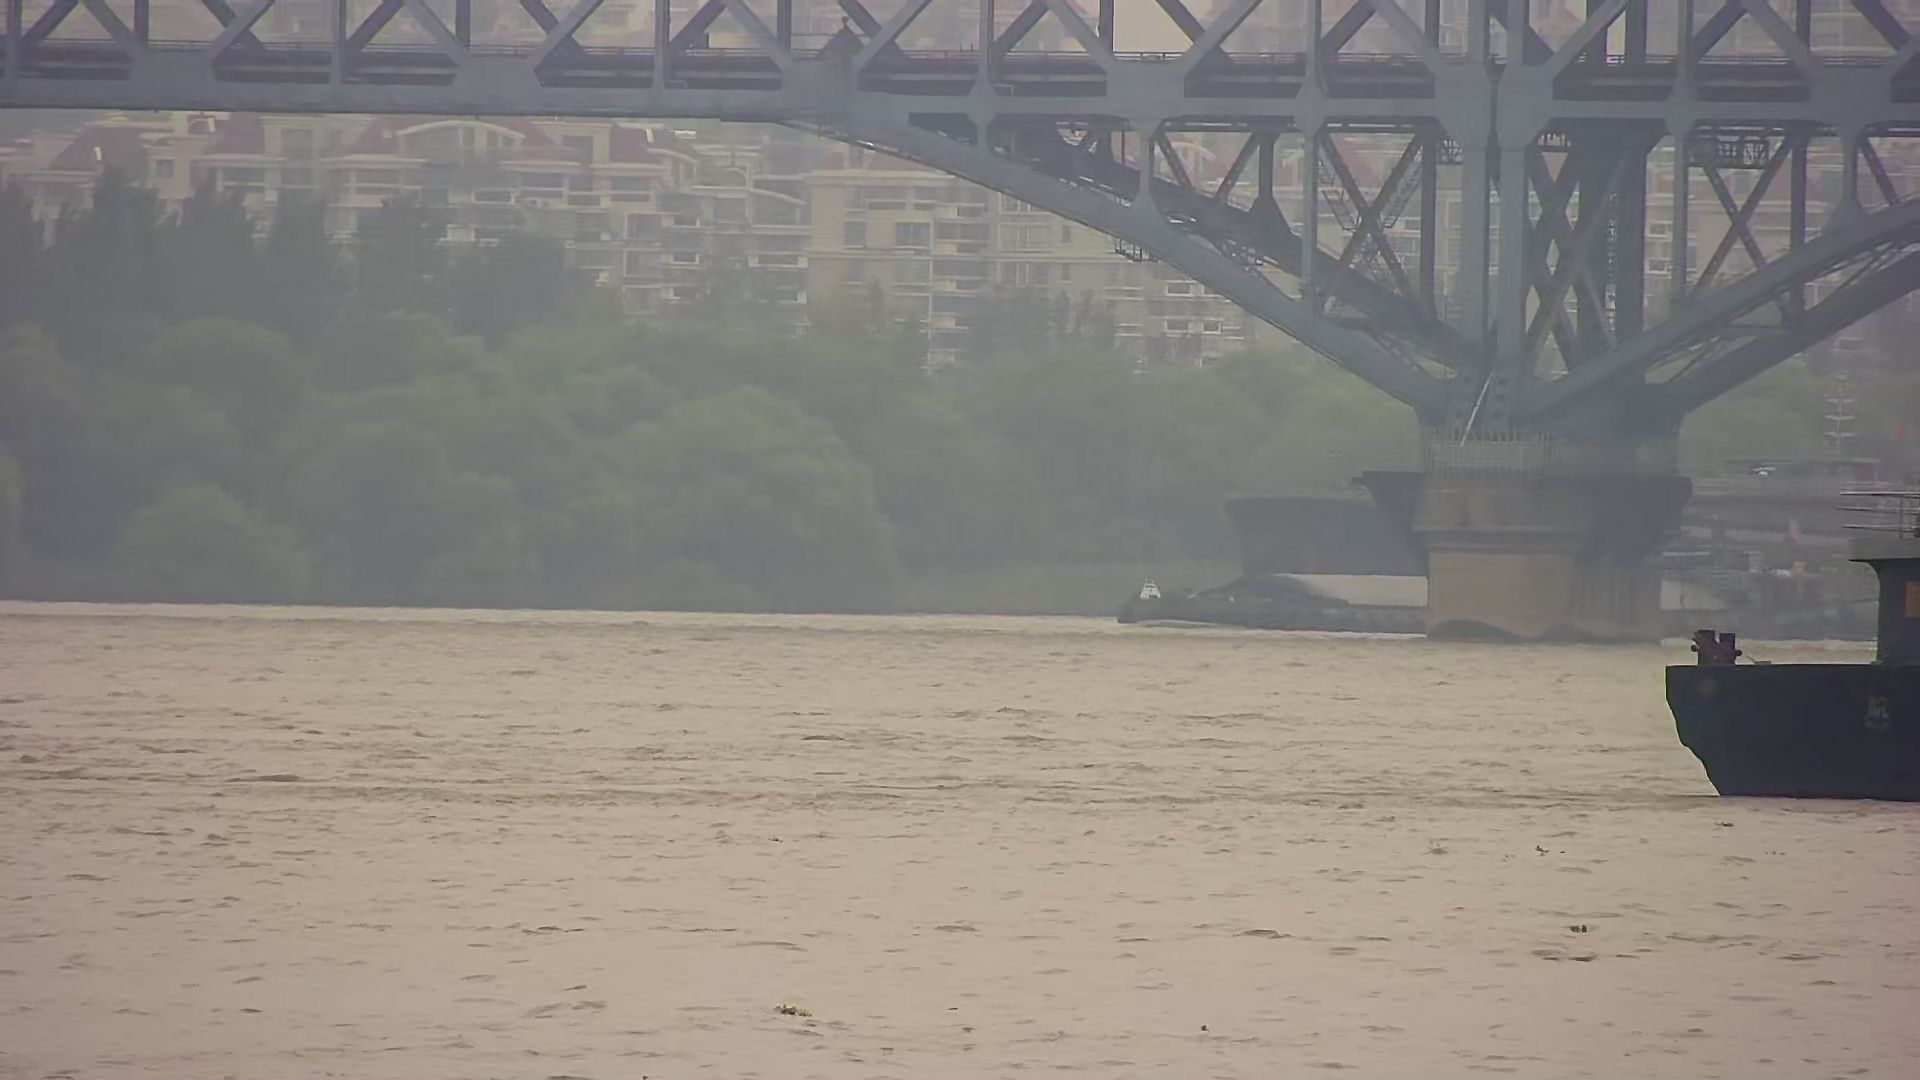bridge: (1, 1, 1908, 645)
ship: (1224, 371, 1913, 608), (1121, 550, 1813, 655)
